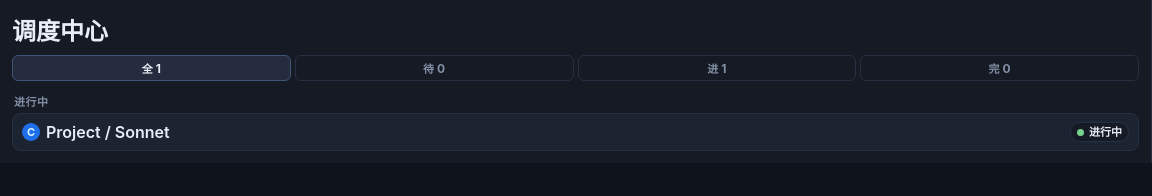
Test case: SessionRadar › keeps a running session in running while Claude hook attention is working
The image size is (1152, 196).
Click the button named "待处理" at (434, 68), box [295,55,574,81]
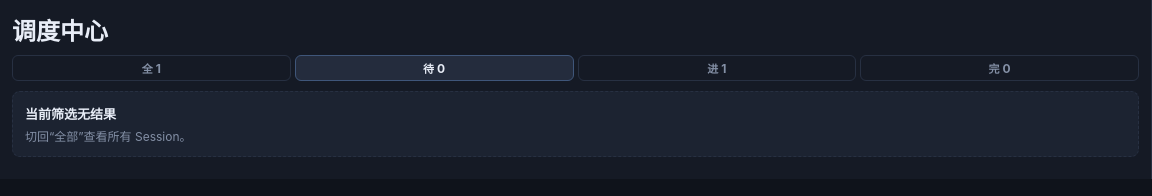
Expected: the button "Project / Sonnet" is gone
